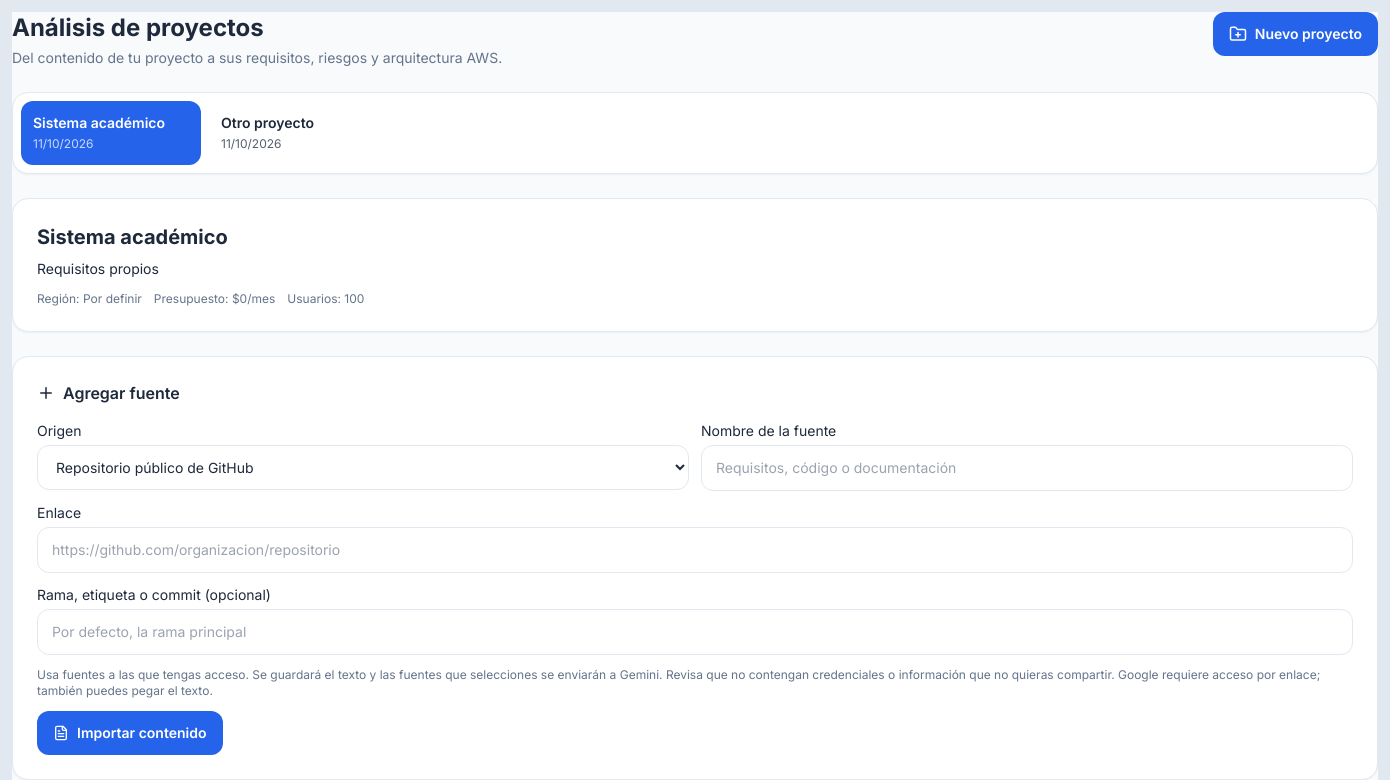
Test: módulo de proyectos › evita mostrar detalle atrasado de otro proyecto
The width and height of the screenshot is (1390, 780).
Click the button "Otro proyecto 11/10/2026". click: (299, 133)
box: [209,101,389,165]
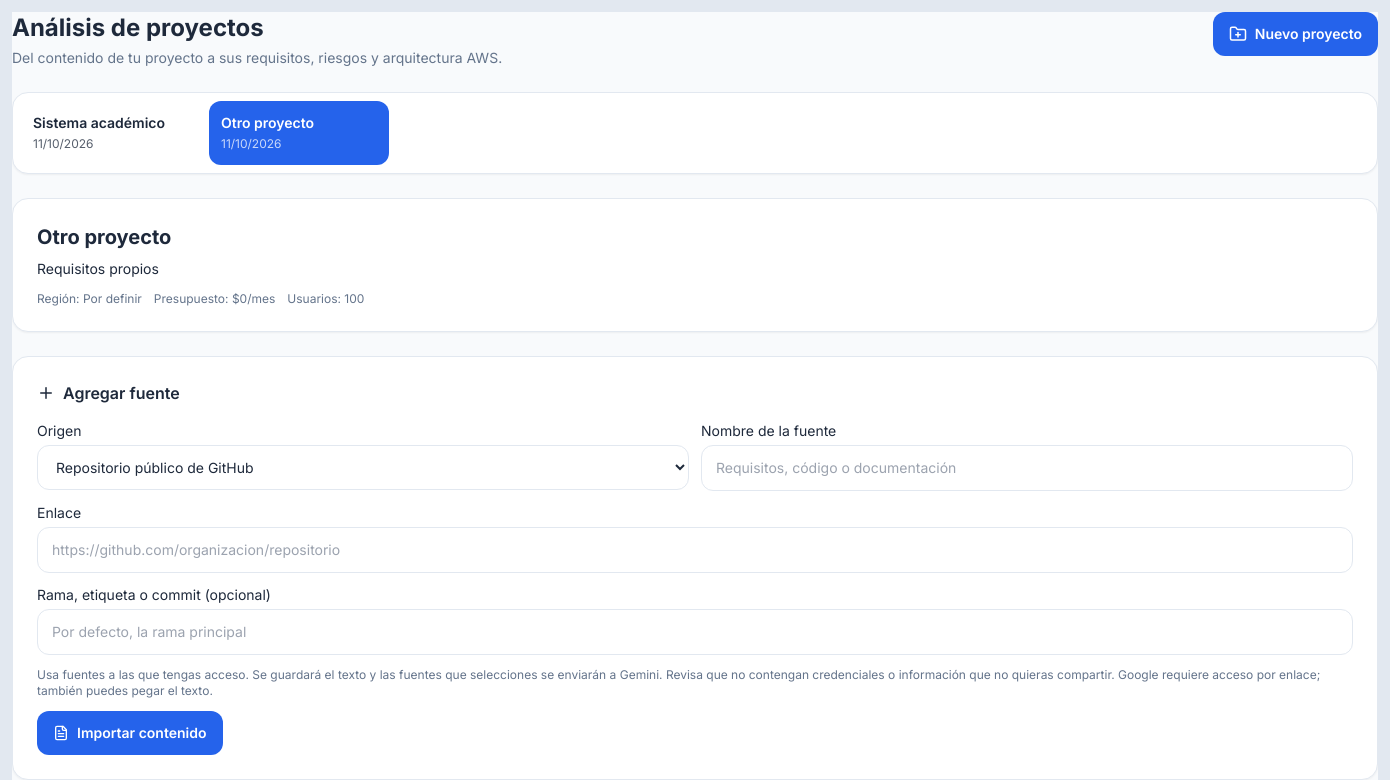
Expected: the heading "Otro proyecto" is shown, [37,225,171,249]
